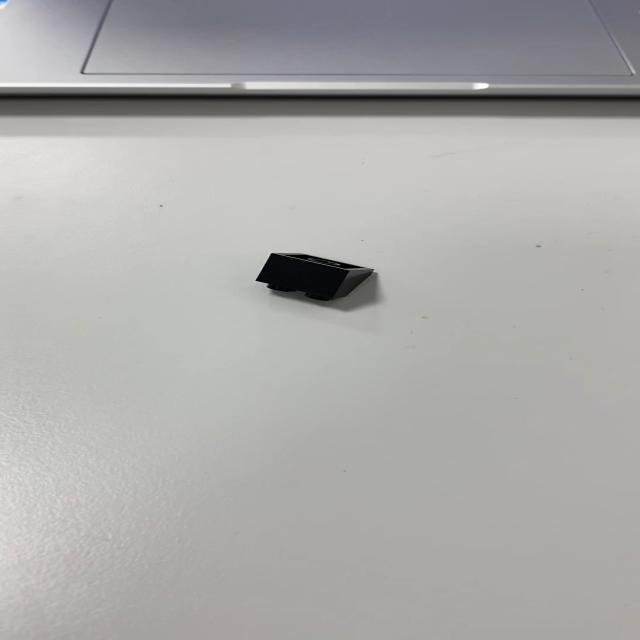P2x2x1: (253, 251, 374, 302)
